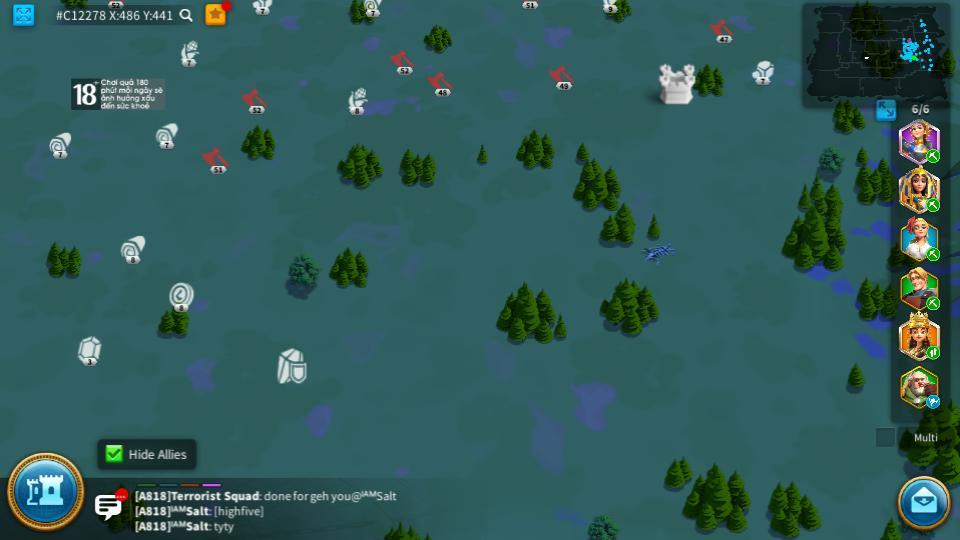gem-z-out: (76, 336, 102, 362)
march_farming: (923, 197, 940, 212), (925, 149, 941, 162), (925, 249, 941, 261), (925, 297, 942, 308)
march_idle: (925, 394, 942, 408)
march_marching: (925, 347, 942, 359)
